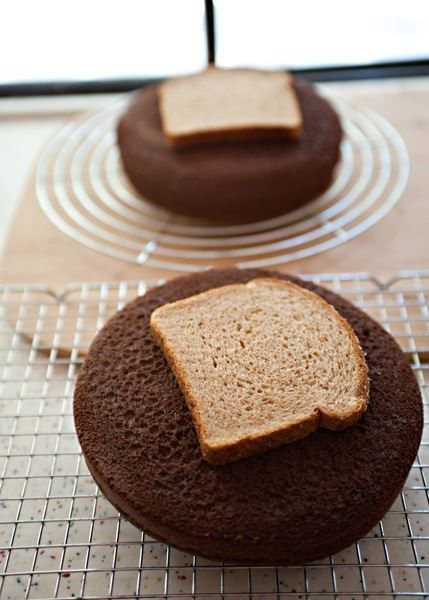slice of bread: (151, 291, 389, 460)
